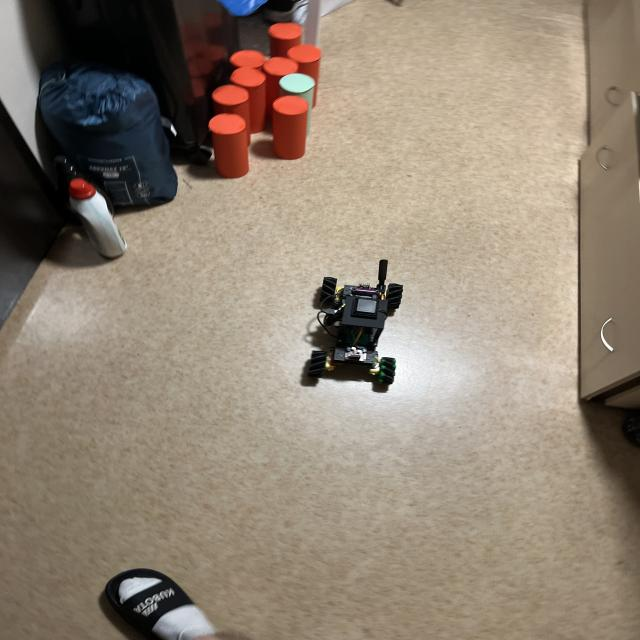robot: (308, 260, 403, 384)
